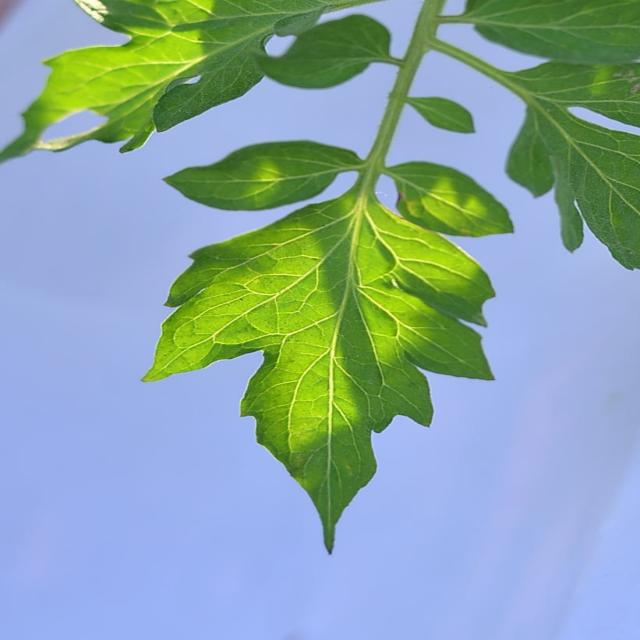healthy: (93, 142, 520, 558)
infected: (0, 90, 131, 163), (602, 60, 640, 108)
